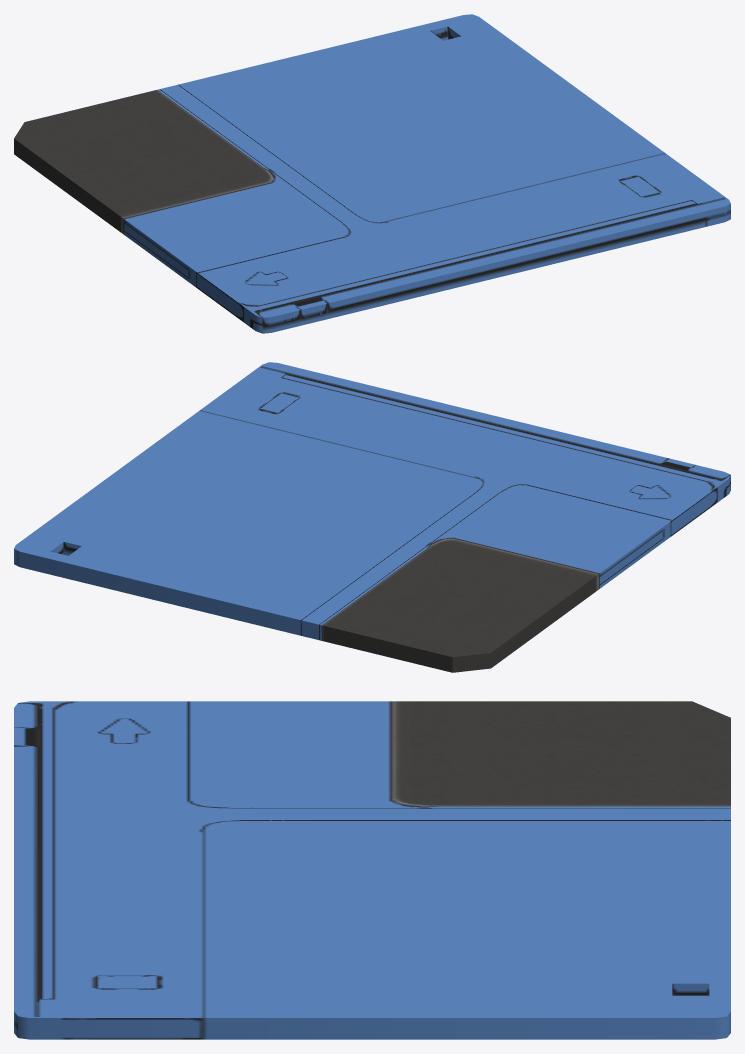
File: floppy_blue.glb
The picture shows the model from 3 angles, top to bottom: view 1: azimuth 30°, elevation 25°; view 2: azimuth 150°, elevation 25°; view 3: azimuth 270°, elevation 25°; orthographic projection. The views are drawn at different scales.
Visible parts, largest first — view 1: disk1; view 2: disk1; view 3: disk1.
Boxes of the visible parts, bbox=[...] form: disk1: bbox=[14, 14, 730, 333]; disk1: bbox=[14, 362, 730, 672]; disk1: bbox=[14, 701, 730, 1039].
Size of the model in its own units: 3.7 by 0.1181 by 3.54.
1 material, 1 textured.
